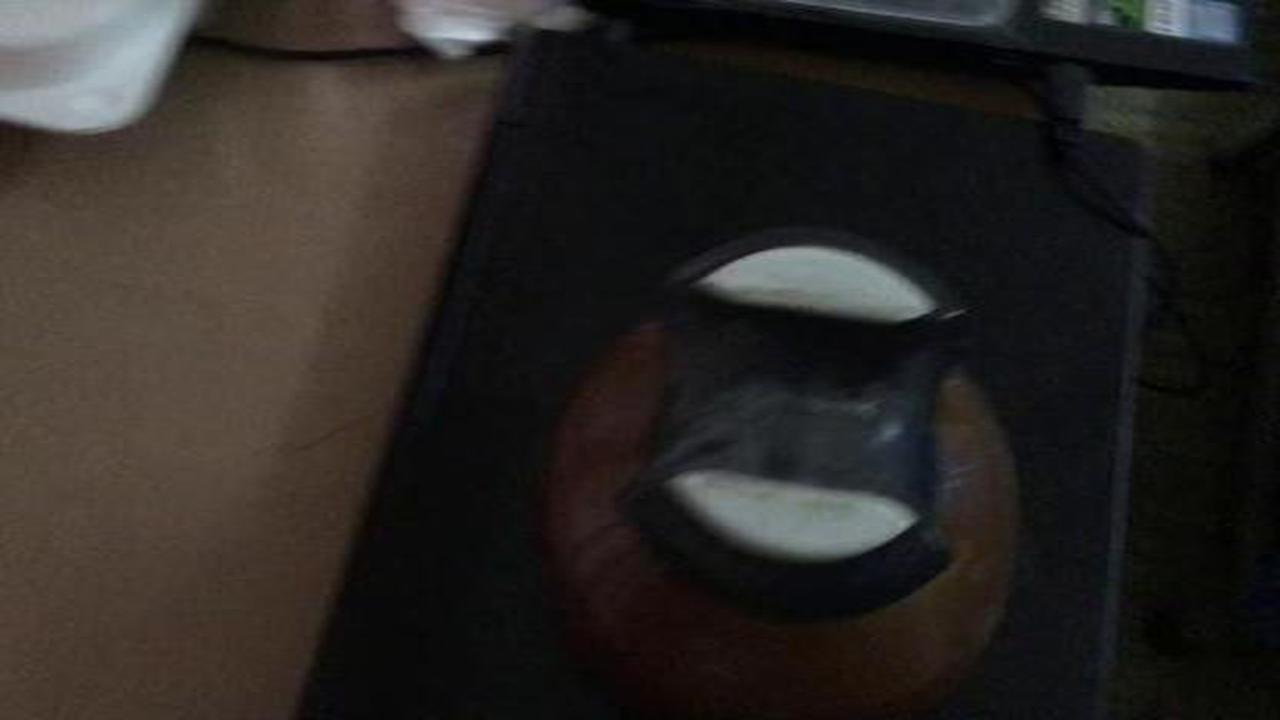insulator_pin: (508, 220, 1053, 707)
